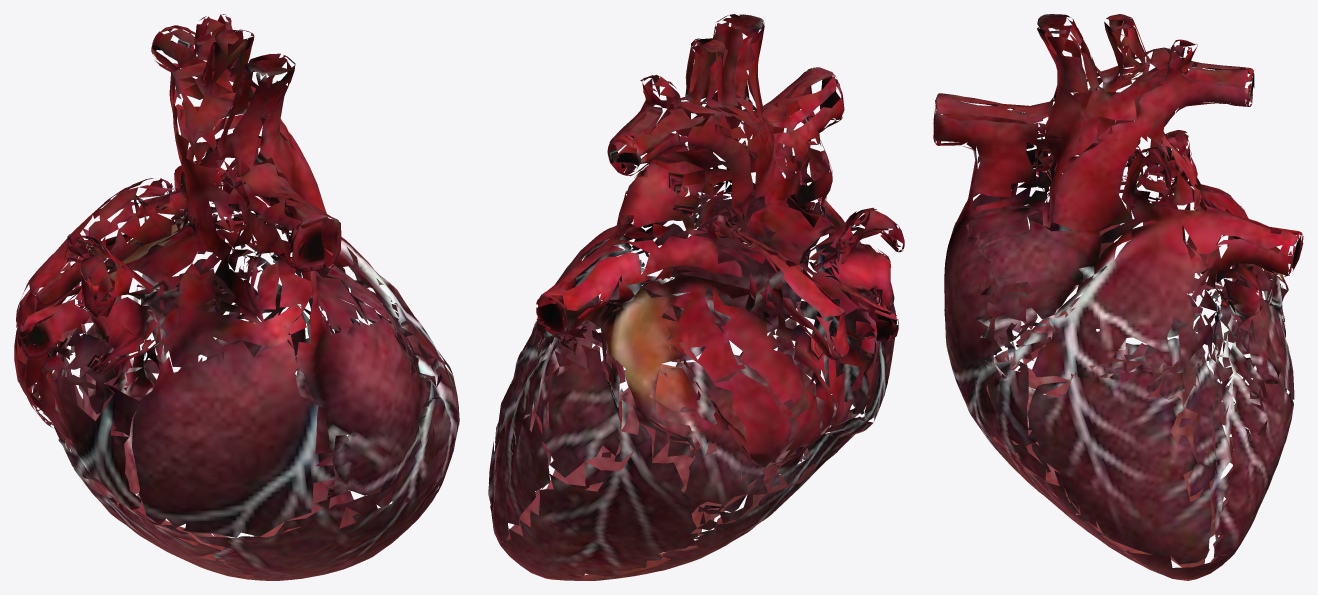
File: heart_lo.glb
The picture shows the model from 3 angles, left to right: view 1: azimuth 30°, elevation 25°; view 2: azimuth 150°, elevation 25°; view 3: azimuth 270°, elevation 25°; orthographic projection. The views are drawn at different scales.
Visible parts, largest first — view 1: merged; view 2: merged; view 3: merged.
Boxes of the visible parts, bbox=[...] form: merged: bbox=[14, 14, 459, 580]; merged: bbox=[488, 14, 904, 580]; merged: bbox=[933, 14, 1303, 580].
Size of the model in its own units: 0.7347 by 0.9997 by 0.665.
Materials: 1 (1 with a texture image).
